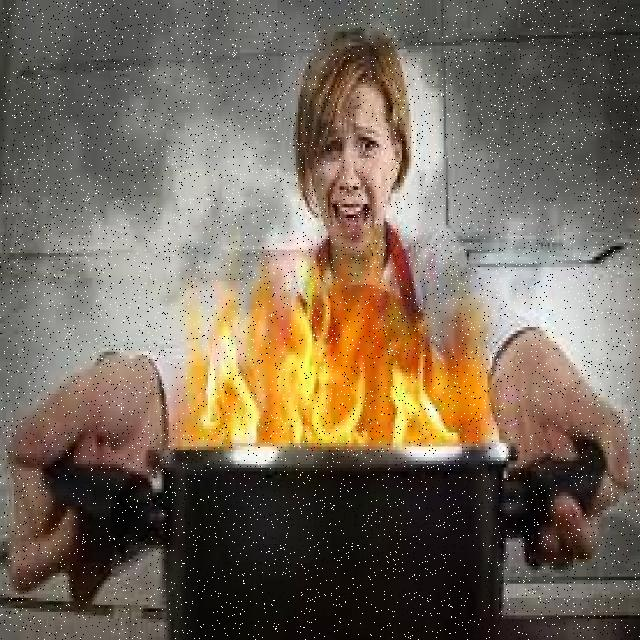fire: (182, 273, 498, 462)
